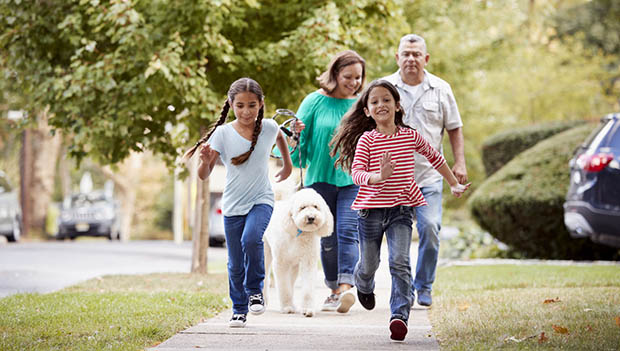Person: (326, 77, 472, 351), (181, 71, 307, 333), (371, 31, 478, 320), (286, 51, 369, 311)
